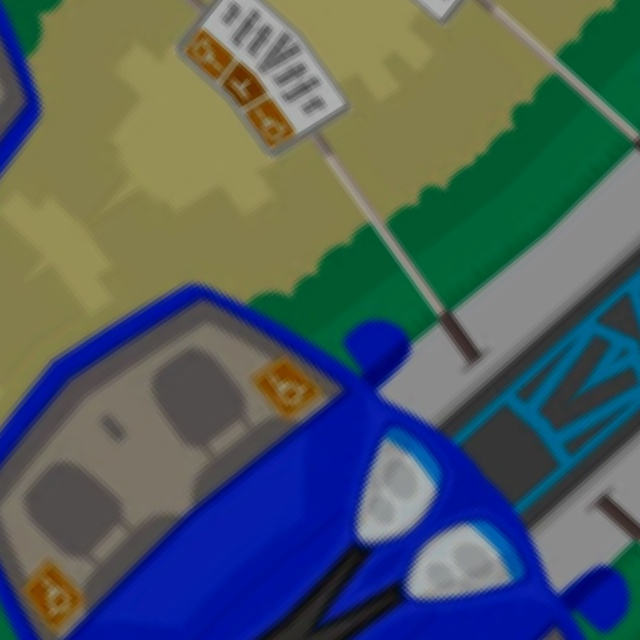ISA: (256, 357, 312, 413), (23, 566, 78, 622), (182, 30, 235, 84), (240, 95, 293, 149)
